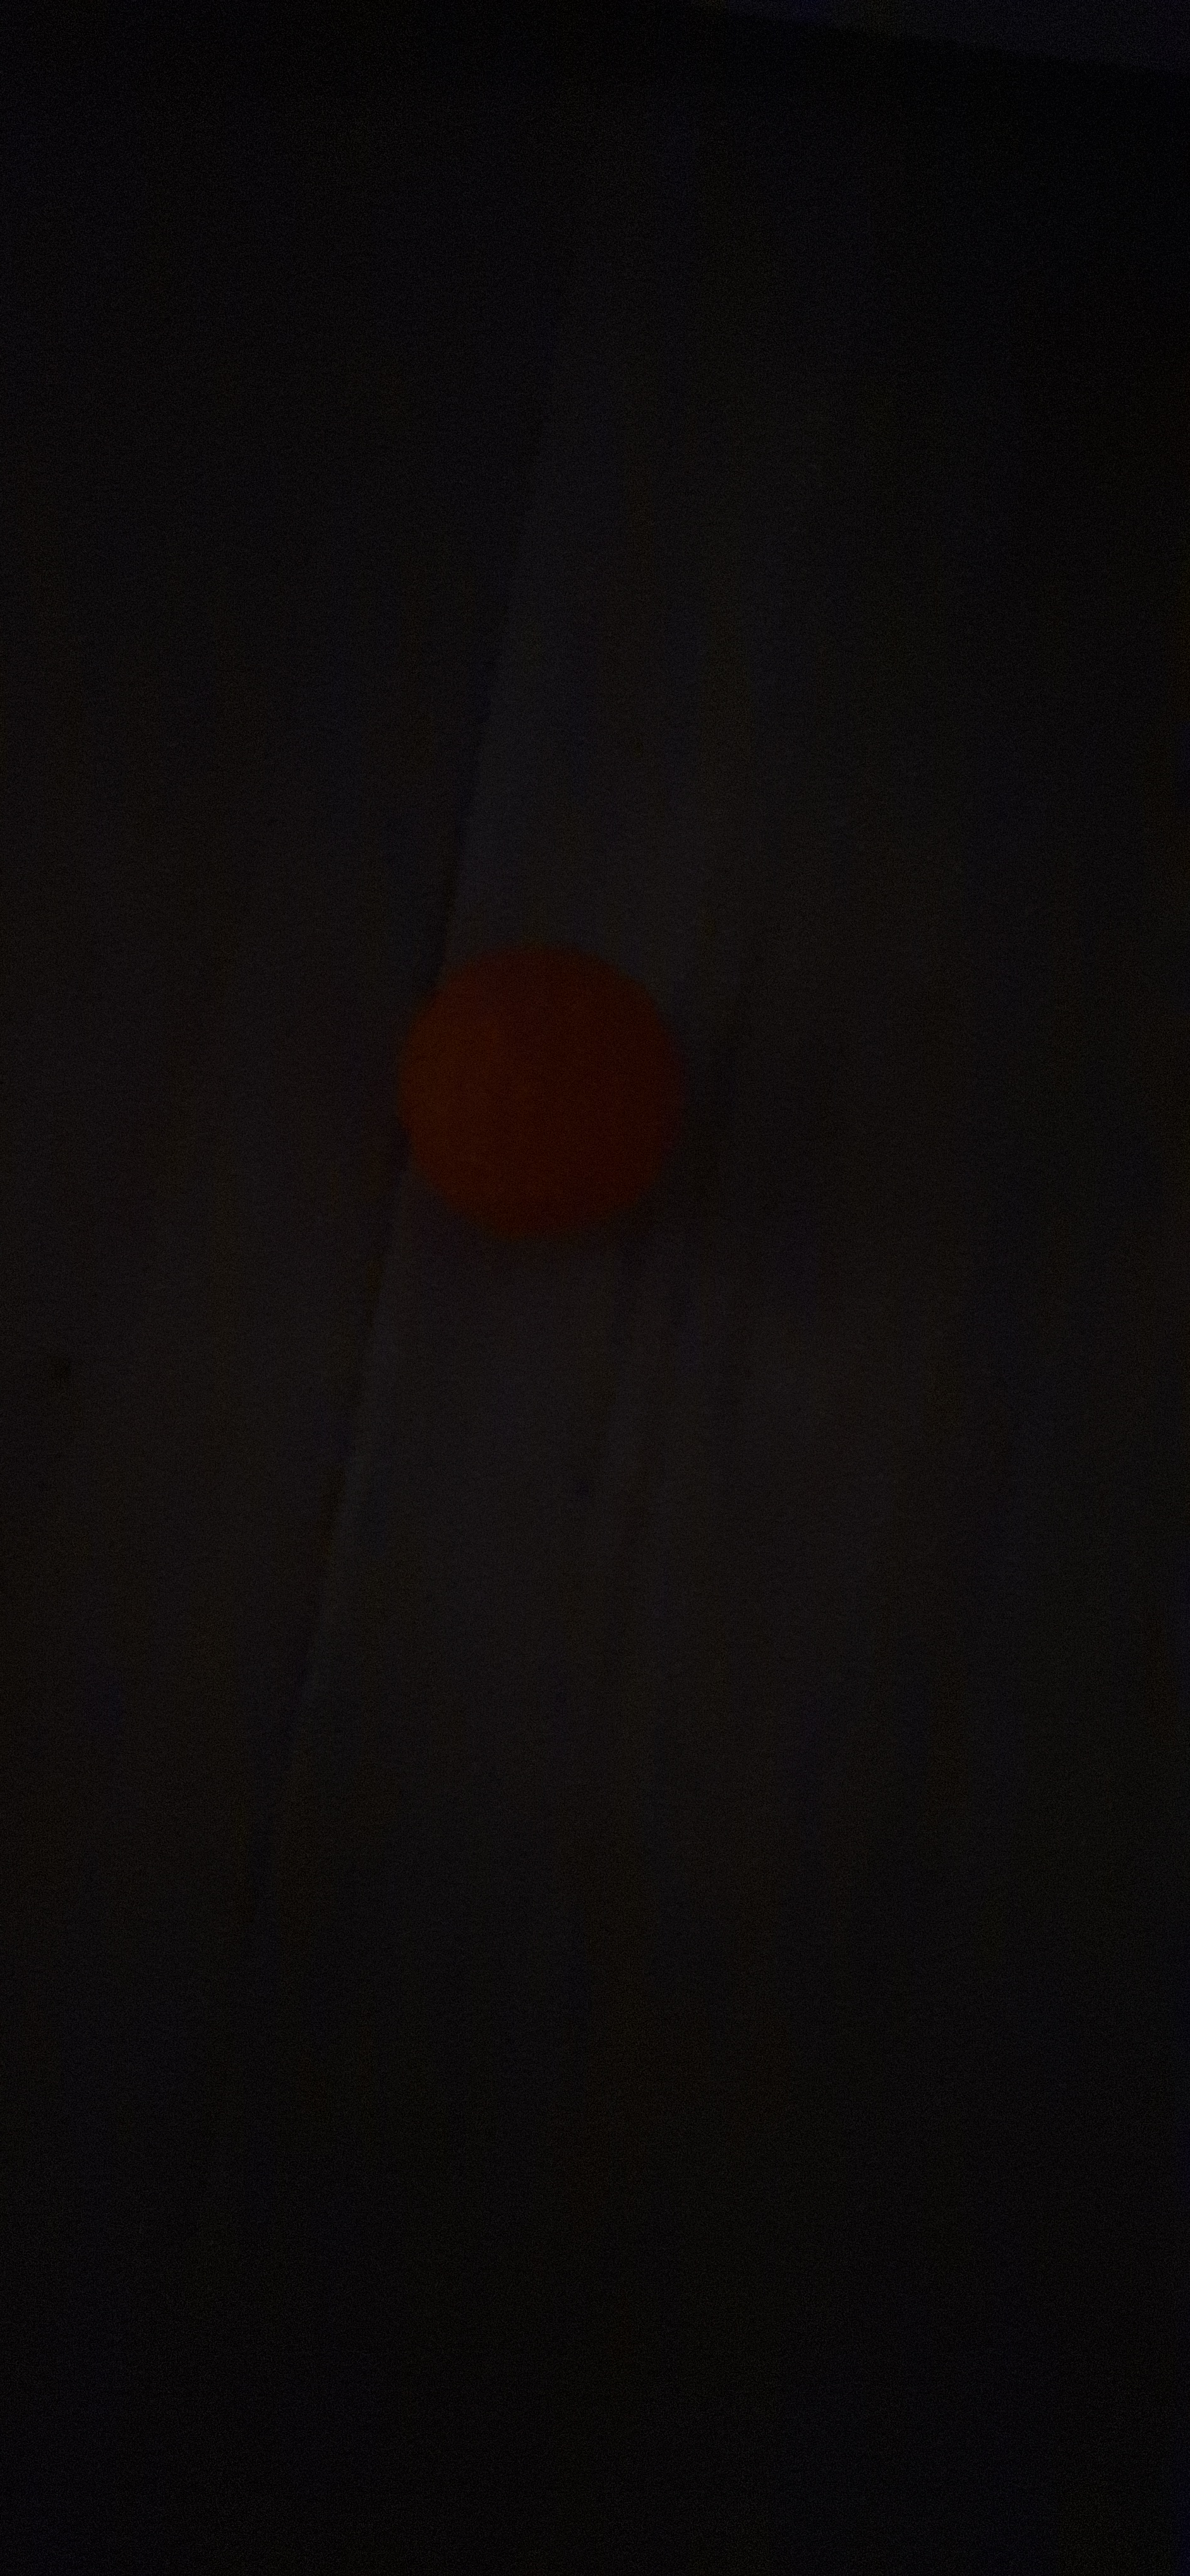ball: (431, 1081, 577, 1725)
